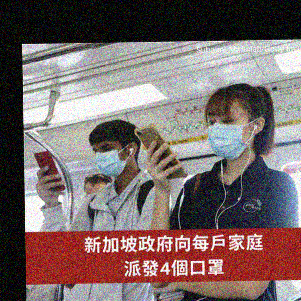with_mask: (206, 108, 252, 161), (91, 142, 124, 176)
